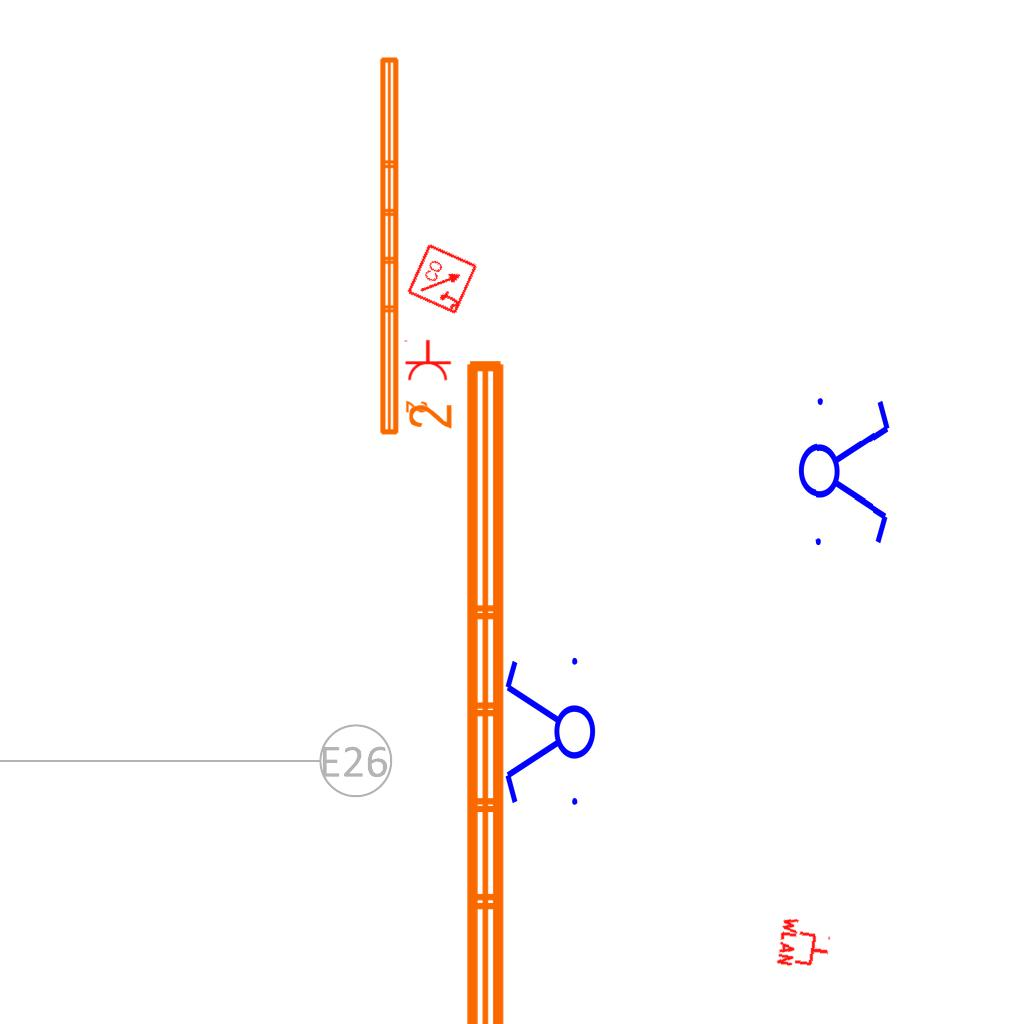Ambulanz_Pendelleuchte_LED: (404, 352, 516, 1024), (374, 52, 430, 439)
ROA_Rauchmelder_optisch_mit_Signalgeber_(Sockelsirene): (406, 242, 480, 316)
Schukosteckdose_einfach: (402, 339, 452, 382)
Serienschalter: (795, 385, 895, 555), (501, 649, 597, 817)
WLAN: (775, 914, 835, 974)
